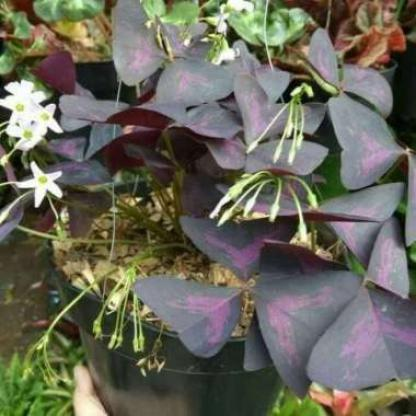Kupu-Kupu: (143, 225, 322, 341), (321, 180, 406, 384), (221, 79, 354, 173), (133, 20, 206, 102)
